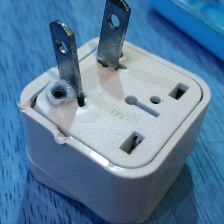three_eye_plug: (14, 0, 213, 224)
